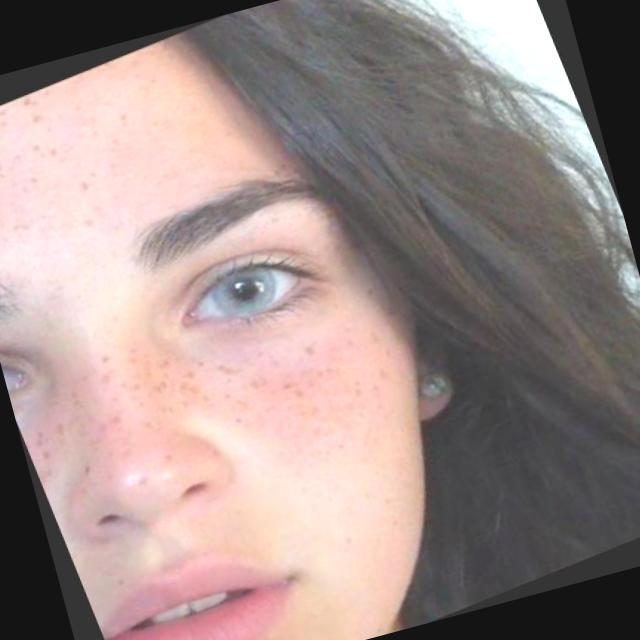freckle: (0, 255, 431, 566), (0, 40, 211, 282)
